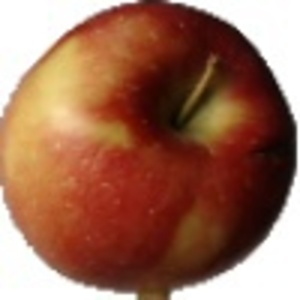maçã braeburn: (1, 1, 300, 289)
